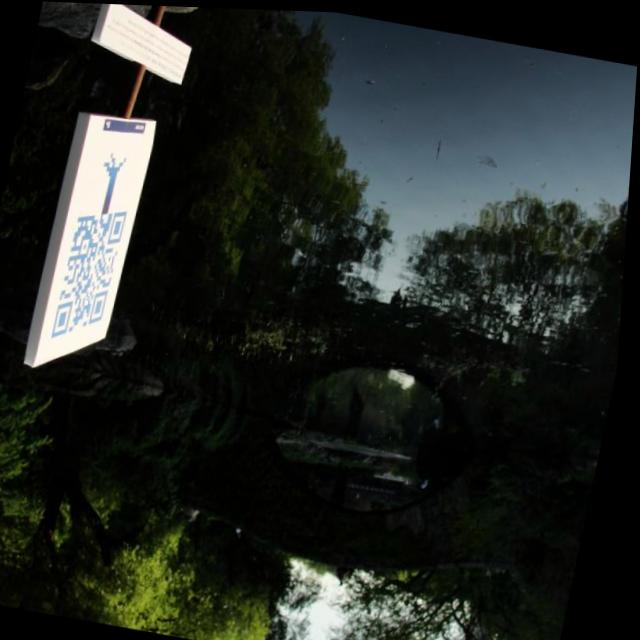qrcode: (56, 202, 131, 346)
